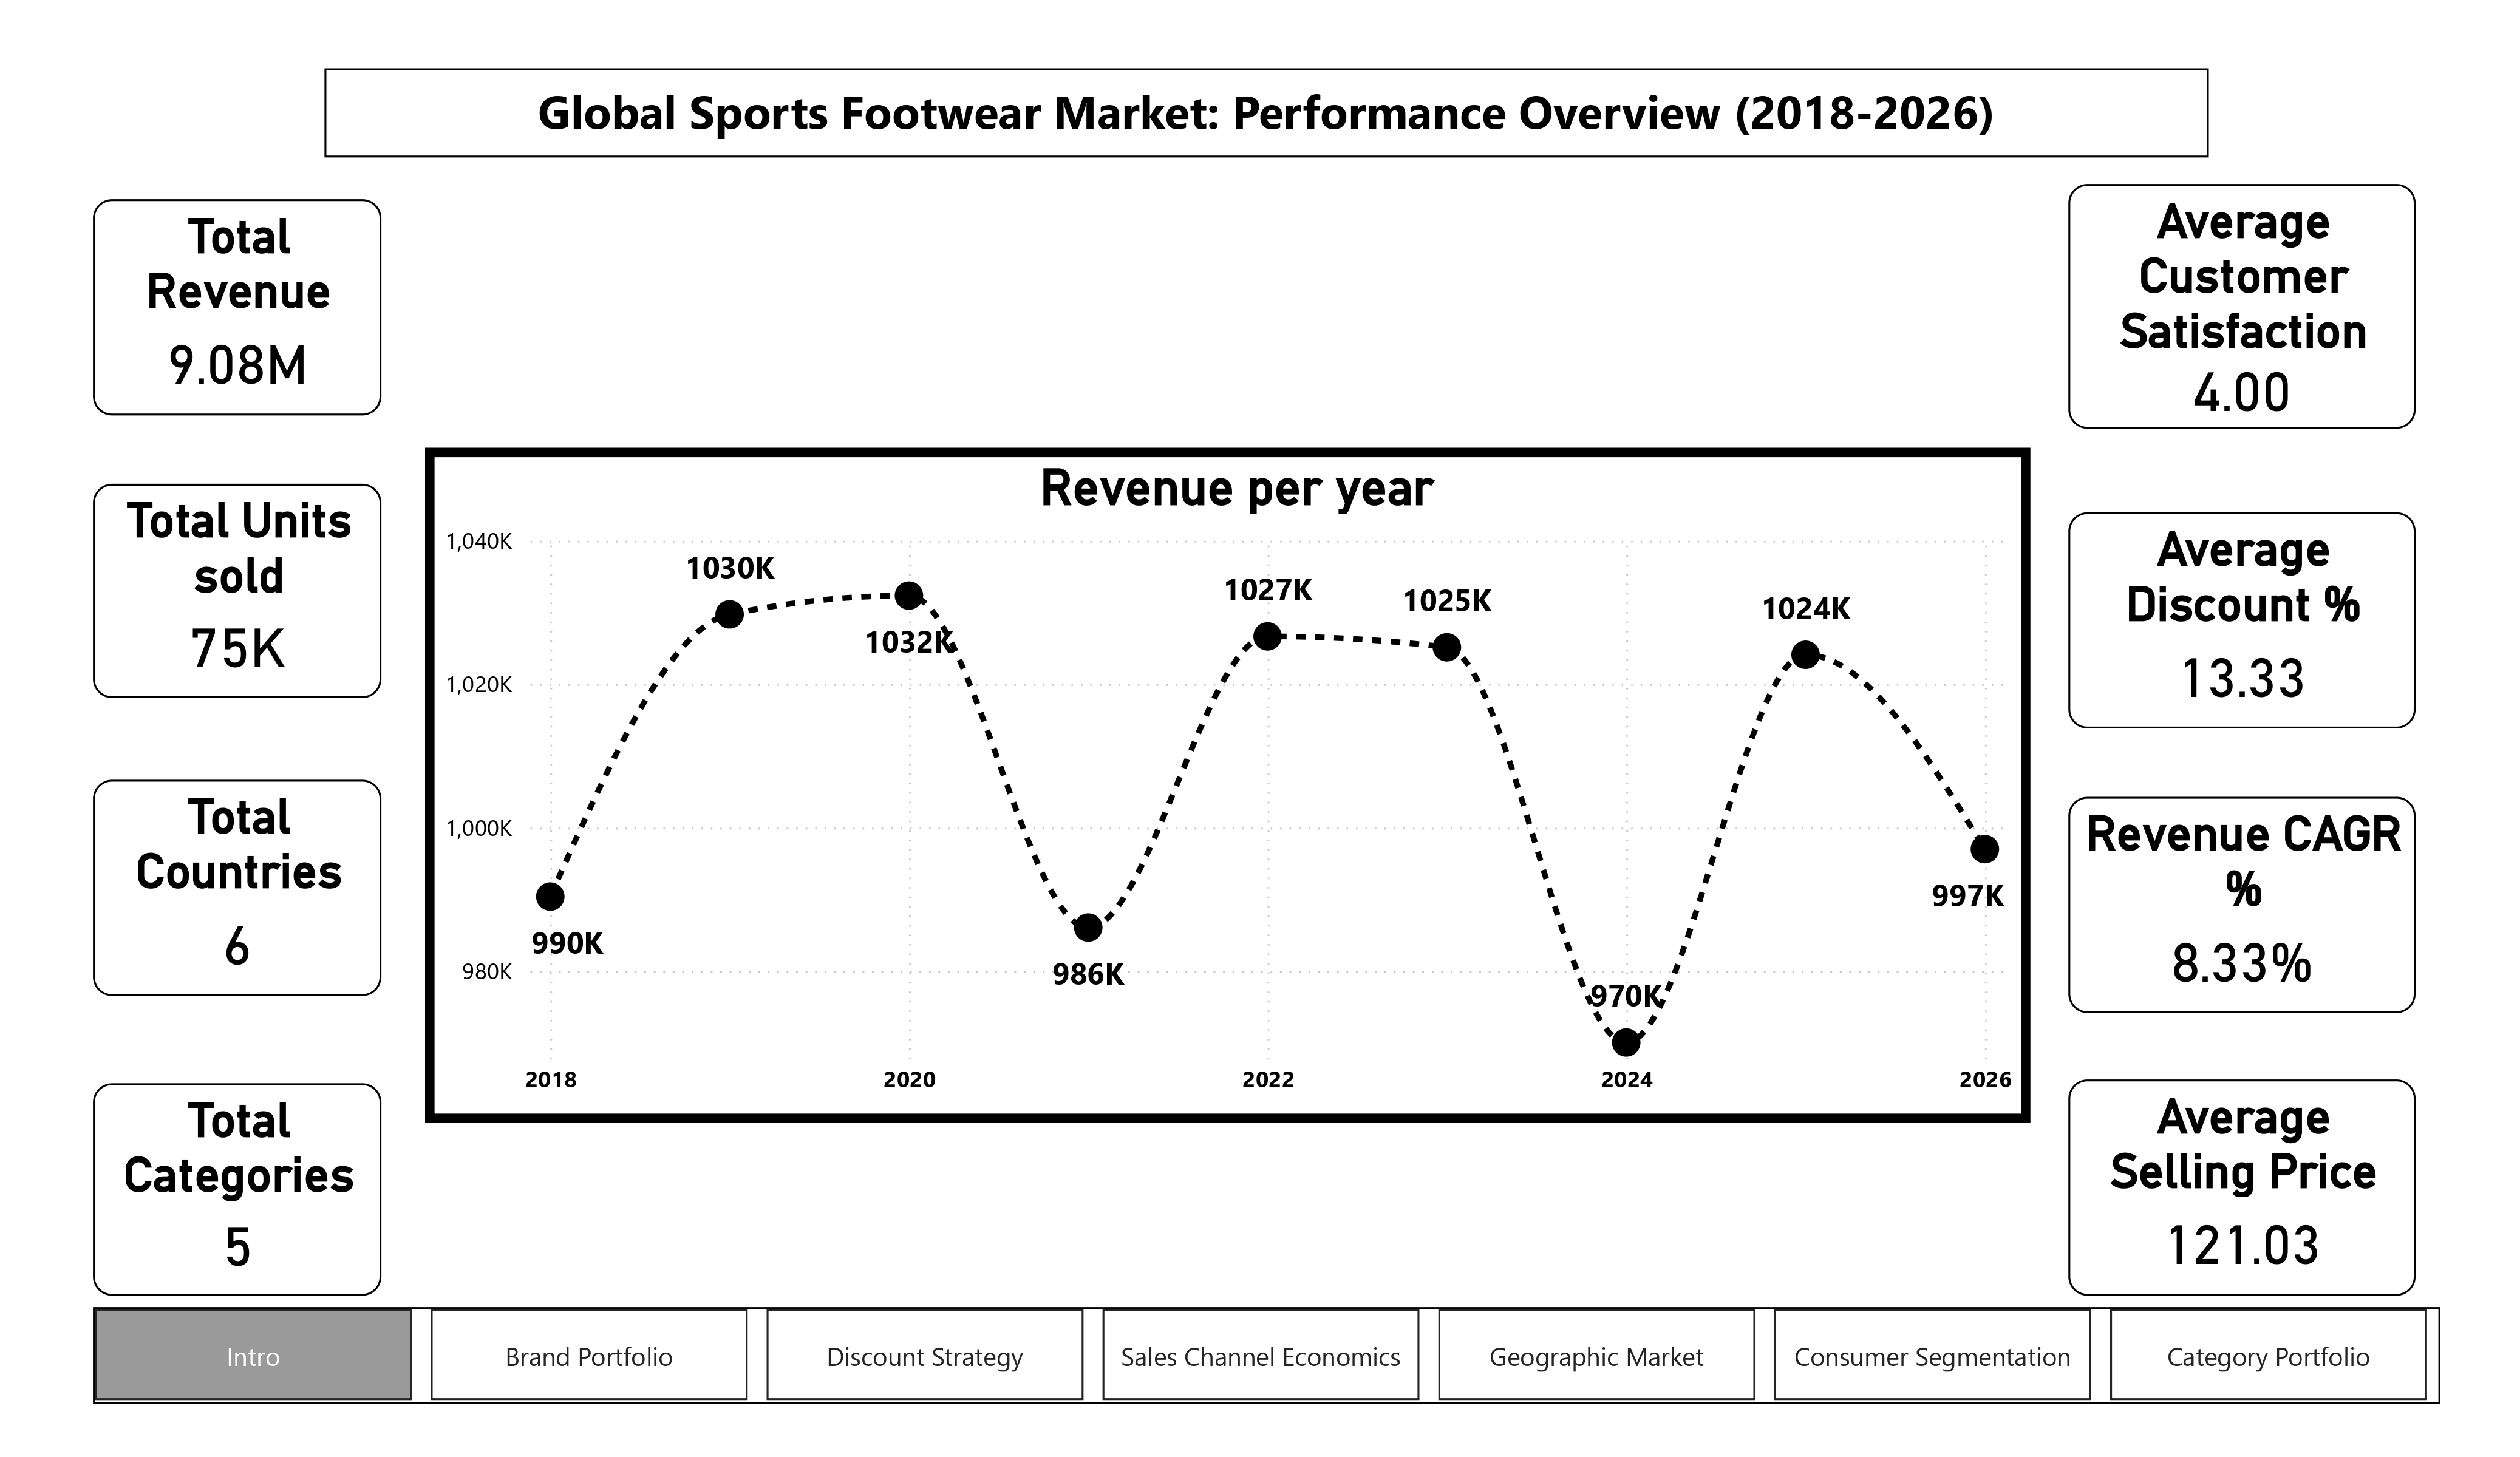

What the dashboard file says about the page in this screenshot:
{"tool":"powerbi","page":{"name":"Intro","canvas":[1280,720],"ordinal":0},"visuals":[{"type":"lineChart","title":"Revenue per year","fields":{"Y":["Sum(cleaned_data.Revenue)"],"Category":["cleaned_data.year"]},"box":[199.9,212,846.4,355.8],"z":0},{"type":"textbox","box":[146.9,12.1,993.3,46.9],"z":1000},{"type":"card","title":"Average Customer Satisfaction","fields":{"Values":["Table.average customer satsifaction"]},"box":[1066.2,72.7,183.2,129.5],"z":2000},{"type":"card","title":"Average Discount %","fields":{"Values":["Table.Average Discount %"]},"box":[1066.2,246.4,183.2,113.7],"z":3000},{"type":"card","title":"Average Selling Price","fields":{"Values":["Table.average selling price"]},"box":[1066.2,545,183.2,113.7],"z":4000},{"type":"card","title":"Total Revenue","fields":{"Values":["Table.total_revenue"]},"box":[25.3,81.1,151.6,113.7],"z":5000},{"type":"card","title":"Total Units sold","fields":{"Values":["Table.total_units_sold"]},"box":[25.3,230.6,151.6,113.7],"z":6000},{"type":"card","title":"Total Countries","fields":{"Values":["Table.total Countries"]},"box":[25.3,387,151.6,113.7],"z":7000},{"type":"card","title":"Total Categories","fields":{"Values":["Count(category_summary.category)"]},"box":[25.3,546.5,151.6,112.2],"z":8000},{"type":"pageNavigator","box":[25.3,665,1236.8,50.5],"z":9000},{"type":"card","title":"Revenue CAGR %","fields":{"Values":["Table.Revenue CAGR %"]},"box":[1066.2,396.5,183.2,113.7],"z":10000}]}

Visuals, with their boxes on the page's 1280x720 design canvas (x1, y1, x2, y2). These are canvas units, not pixel positions in the 2520x1457 screenshot, which may show the page scaled, cropped or inside an application window:
"Revenue per year" lineChart: [200,212,1046,568]
textbox: [147,12,1140,59]
"Average Customer Satisfaction" card: [1066,73,1249,202]
"Average Discount %" card: [1066,246,1249,360]
"Average Selling Price" card: [1066,545,1249,659]
"Total Revenue" card: [25,81,177,195]
"Total Units sold" card: [25,231,177,344]
"Total Countries" card: [25,387,177,501]
"Total Categories" card: [25,546,177,659]
pageNavigator: [25,665,1262,716]
"Revenue CAGR %" card: [1066,396,1249,510]
